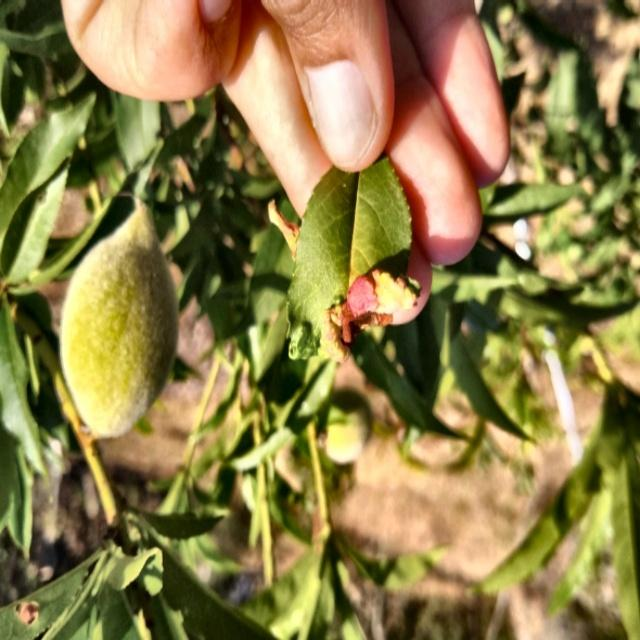leaf_curl: (269, 166, 398, 444)
